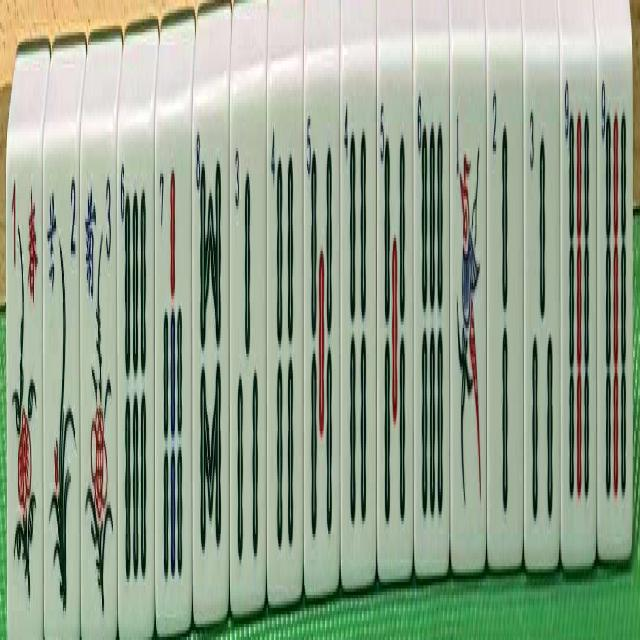1B: (451, 58, 486, 560)
1S: (6, 151, 42, 640)
2B: (488, 44, 521, 568)
2F: (42, 138, 79, 640)
3B: (230, 86, 265, 612), (525, 55, 558, 559)
3F: (79, 138, 116, 640)
4B: (266, 76, 302, 593), (341, 60, 376, 572)
5B: (304, 73, 340, 586), (376, 71, 412, 572)
6B: (118, 136, 154, 640), (414, 62, 448, 564)
7B: (156, 105, 191, 634)
8B: (193, 107, 229, 640)
9B: (561, 63, 596, 559), (598, 62, 633, 552)
